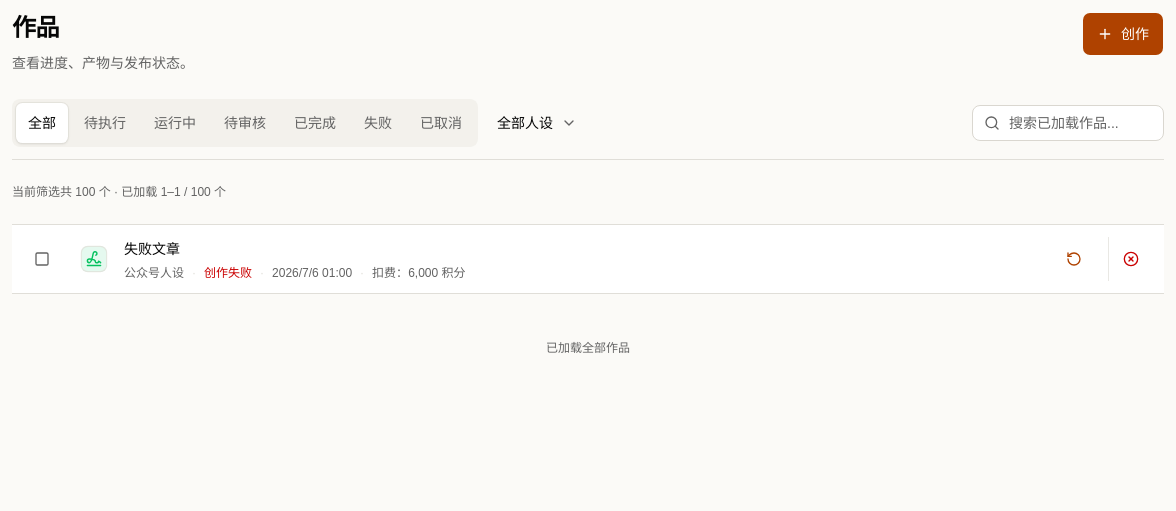
TasksPage URL-driven recovery filters › reports when a search has no matches among loaded tasks
Check: the heading "失败文章" is shown, box [124, 237, 180, 261]
Type "不存在的内容" into the search field with placeholder "搜索已加载作品..." at (1068, 123), box [972, 105, 1164, 141]
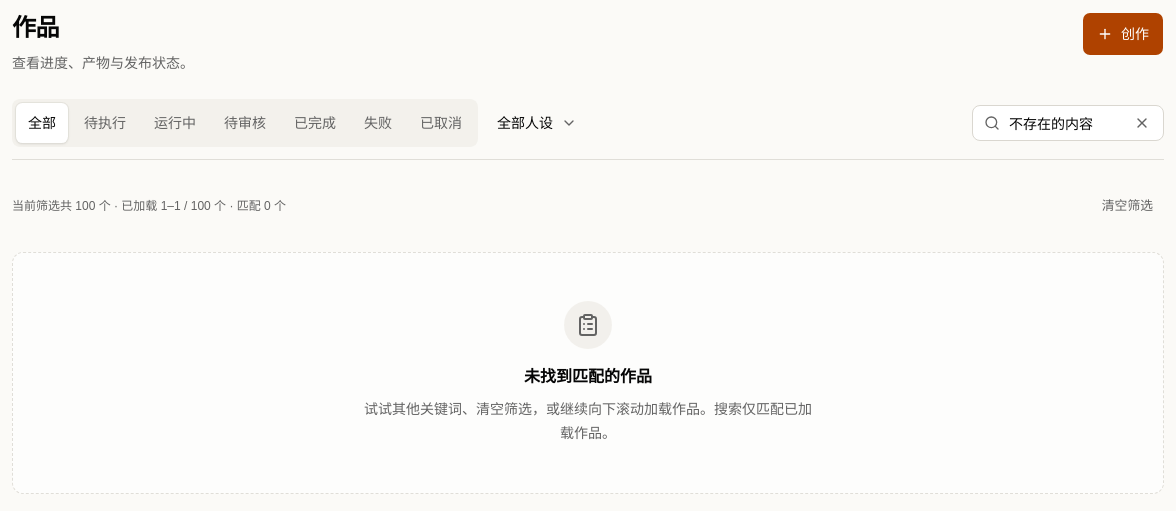
Check: the heading "未找到匹配的作品" is shown, box [524, 365, 652, 389]
Click the button "清空筛选" at (1127, 206), box [1091, 184, 1164, 228]
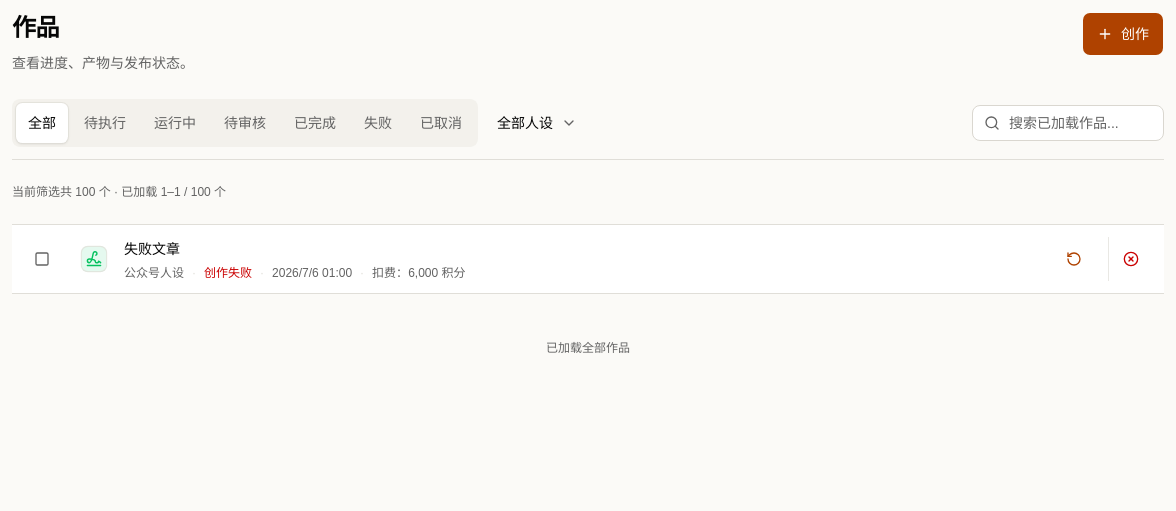
Check: the heading "失败文章" is shown, box [124, 237, 180, 261]
